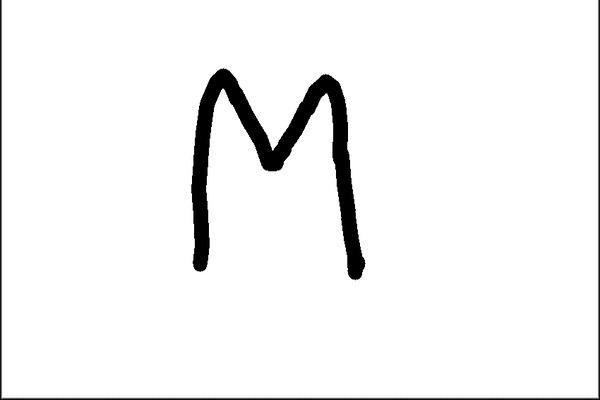M: (186, 66, 367, 280)
